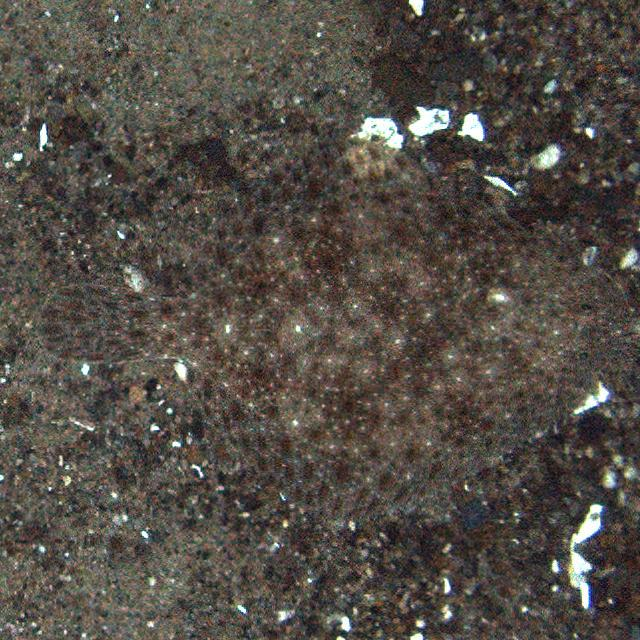flatfish: (49, 184, 636, 486)
